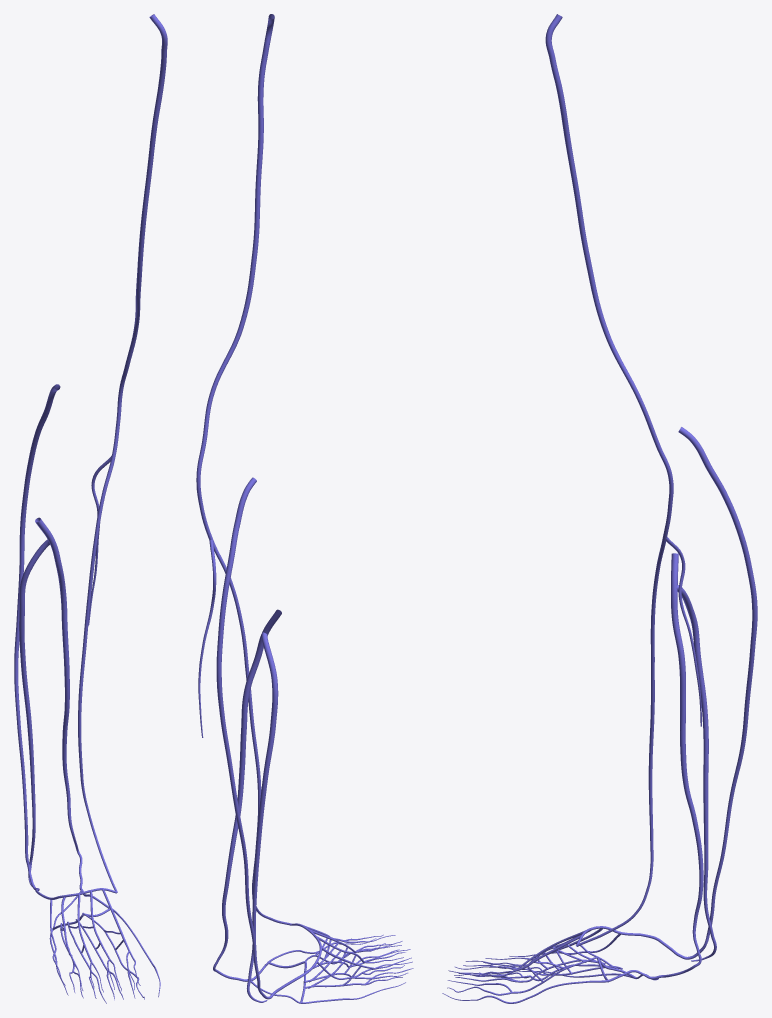
File: veins.glb
3 renders of one model, left to right at view 1: azimuth 30°, elevation 25°; view 2: azimuth 150°, elevation 25°; view 3: azimuth 270°, elevation 25°, orthographic. The views are drawn at different scales.
Visible parts, largest first — view 1: Great saphenous vein.r, Small saphenous vein.r, Posterior tibial veins.r, Fibular veins.r, Dorsal metatarsal veins.r, Plantar digital veins.r, Plantar metatarsal veins.r, Dorsal digital veins of foot.r; view 2: Great saphenous vein.r, Small saphenous vein.r, Posterior tibial veins.r, Fibular veins.r, Plantar digital veins.r, Dorsal metatarsal veins.r, Dorsal digital veins of foot.r; view 3: Great saphenous vein.r, Small saphenous vein.r, Posterior tibial veins.r, Fibular veins.r, Plantar digital veins.r, Dorsal metatarsal veins.r, Plantar metatarsal veins.r.
Part boxes in pixels (x1,y1,x2,y2): Great saphenous vein.r: (78, 14, 167, 892); Small saphenous vein.r: (14, 384, 60, 890); Posterior tibial veins.r: (35, 517, 82, 889); Fibular veins.r: (19, 539, 49, 886); Dorsal metatarsal veins.r: (50, 889, 129, 964); Plantar digital veins.r: (49, 929, 160, 1003); Plantar metatarsal veins.r: (60, 912, 127, 970); Dorsal digital veins of foot.r: (55, 950, 140, 992); Great saphenous vein.r: (196, 14, 291, 925); Small saphenous vein.r: (216, 477, 295, 999); Posterior tibial veins.r: (213, 609, 281, 981); Fibular veins.r: (246, 632, 278, 1002); Plantar digital veins.r: (301, 938, 413, 1003); Dorsal metatarsal veins.r: (304, 925, 380, 979); Dorsal digital veins of foot.r: (340, 934, 412, 977); Great saphenous vein.r: (545, 14, 701, 946); Small saphenous vein.r: (658, 427, 757, 959); Posterior tibial veins.r: (661, 553, 703, 977); Fibular veins.r: (676, 585, 716, 961); Plantar digital veins.r: (442, 965, 633, 1003); Dorsal metatarsal veins.r: (512, 928, 620, 972); Plantar metatarsal veins.r: (512, 956, 622, 993).
Size of the model in its own units: 0.1271 by 0.8517 by 0.2404.
